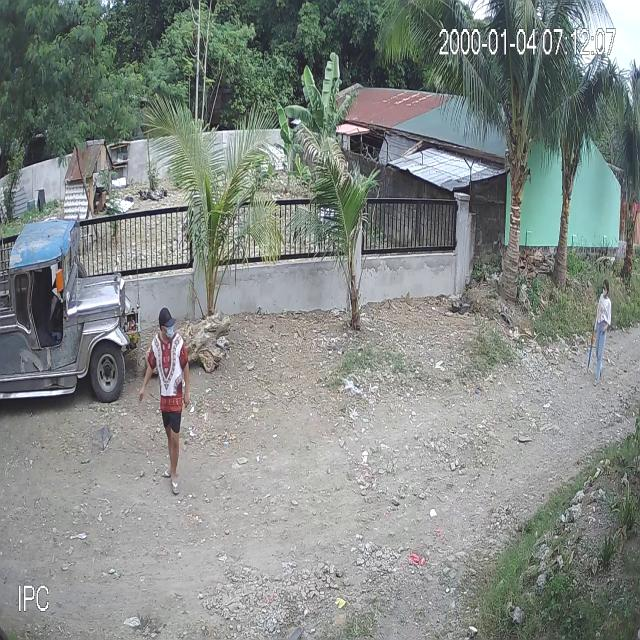walking: (136, 304, 192, 498), (583, 274, 614, 387)
